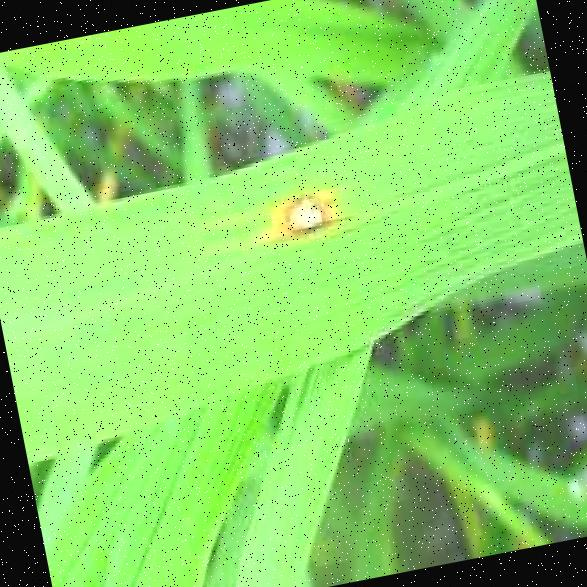Leaf_smut: (250, 148, 356, 250)
